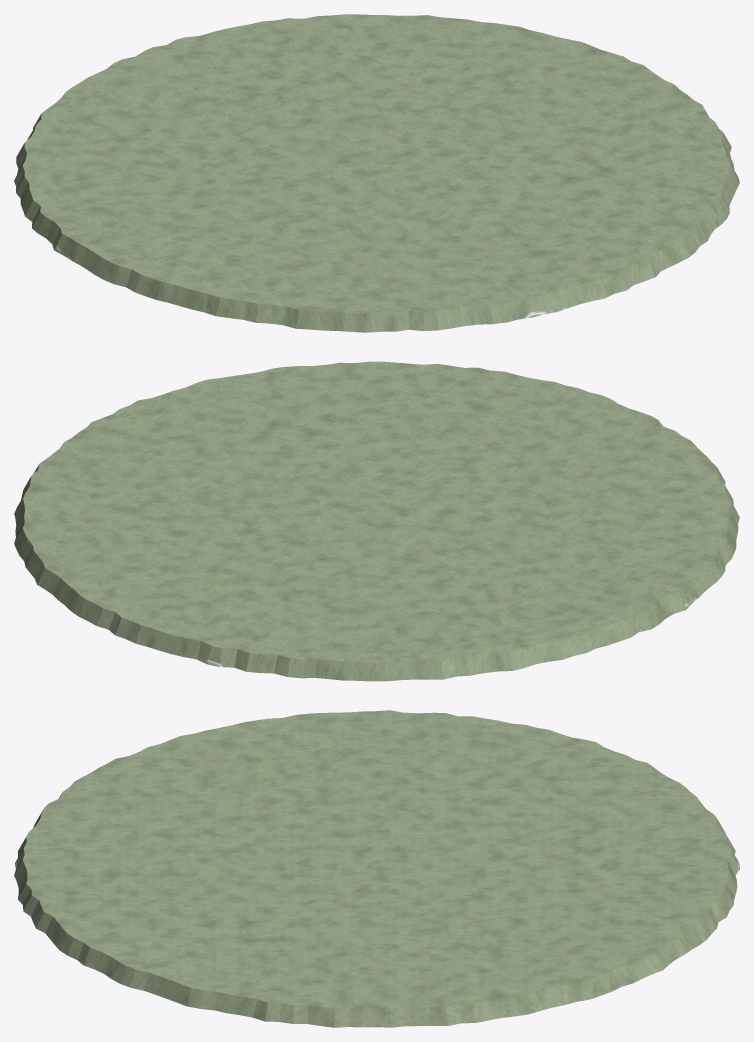
File: rug-shag-round-sage.glb
3 views of the same model, one above another, from view 1: azimuth 30°, elevation 25°; view 2: azimuth 150°, elevation 25°; view 3: azimuth 270°, elevation 25° (orthographic).
Parts seen in each view (by area): view 1: rug-shag-round-sage; view 2: rug-shag-round-sage; view 3: rug-shag-round-sage.
Boxes of the visible parts, x1,y1,x2,y2 form: rug-shag-round-sage: (14,14,739,332); rug-shag-round-sage: (14,361,739,681); rug-shag-round-sage: (14,710,739,1027).
Size of the model in its own units: 1.5 by 0.035 by 1.51.
Materials: 1 (1 with a texture image).
